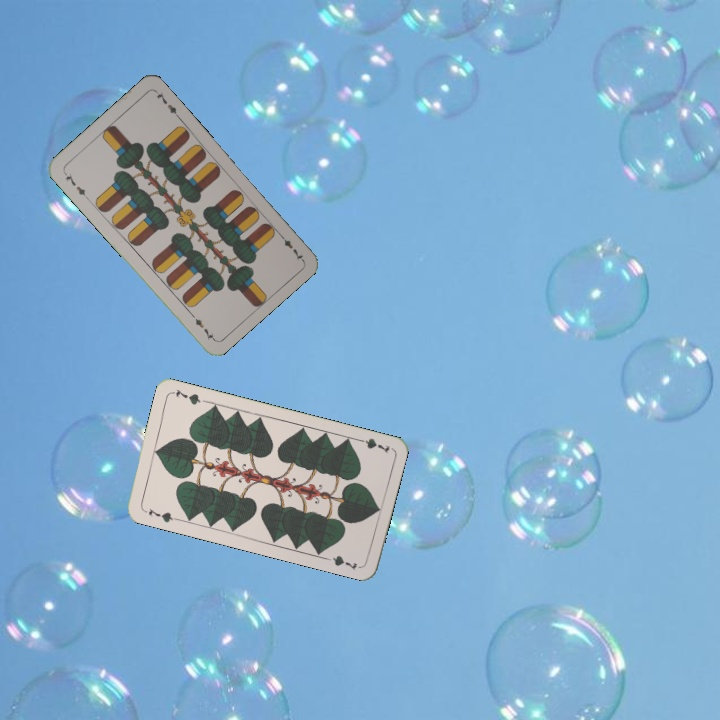E7: (275, 229, 306, 263), (60, 168, 90, 200)
G7: (353, 434, 392, 456), (144, 505, 180, 525)
